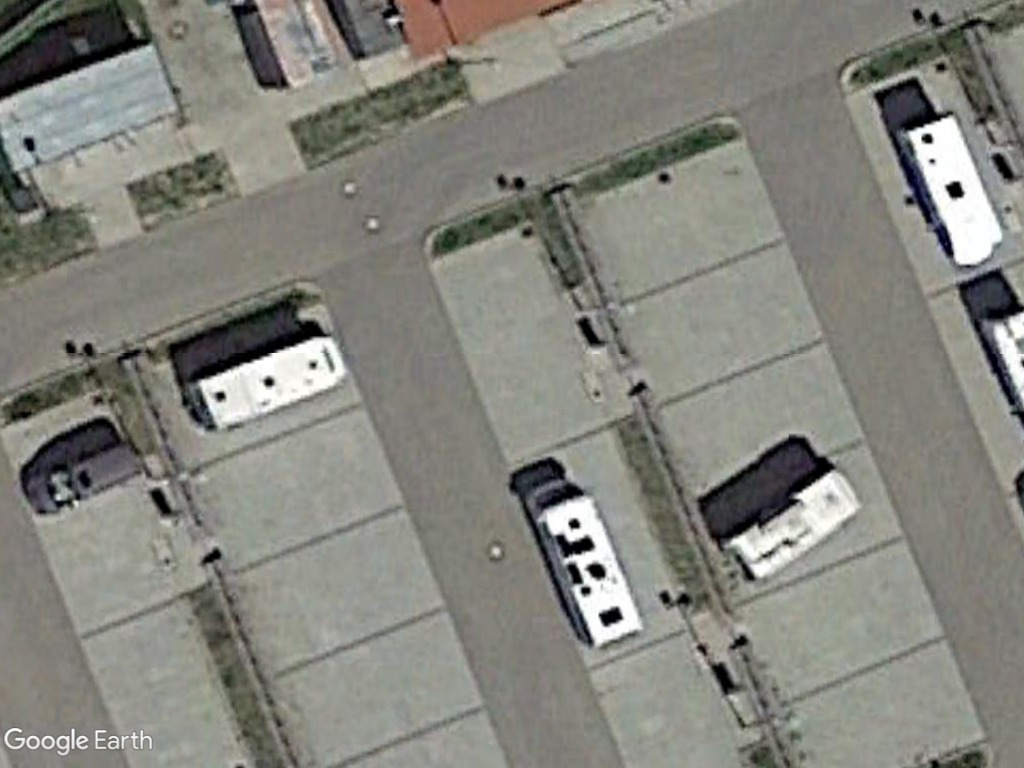bus: (526, 480, 643, 649), (892, 110, 1006, 271), (184, 333, 348, 434)
